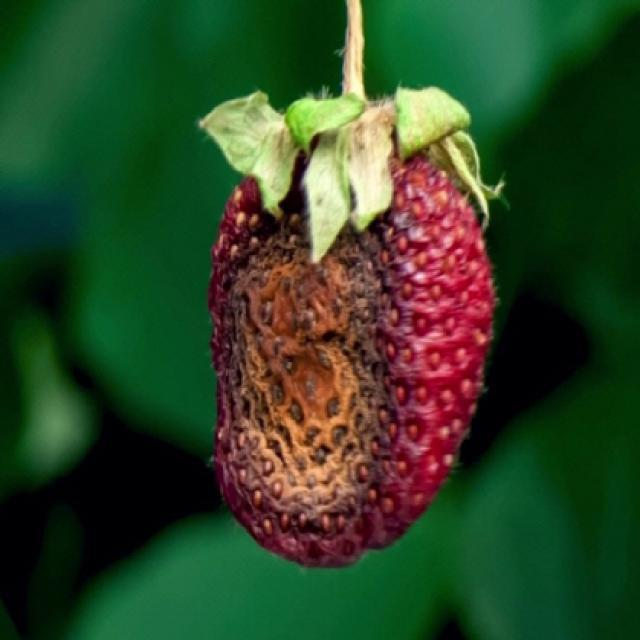Anthracnose Fruit Rot: (206, 95, 497, 570)
